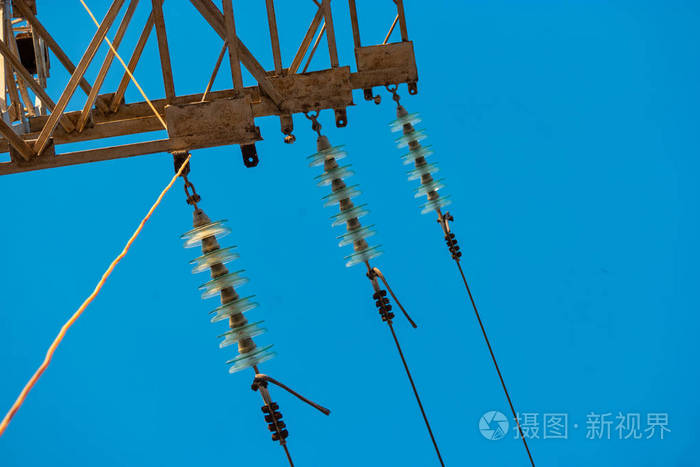insulator: (179, 215, 276, 371), (305, 141, 385, 269), (388, 110, 452, 216)
